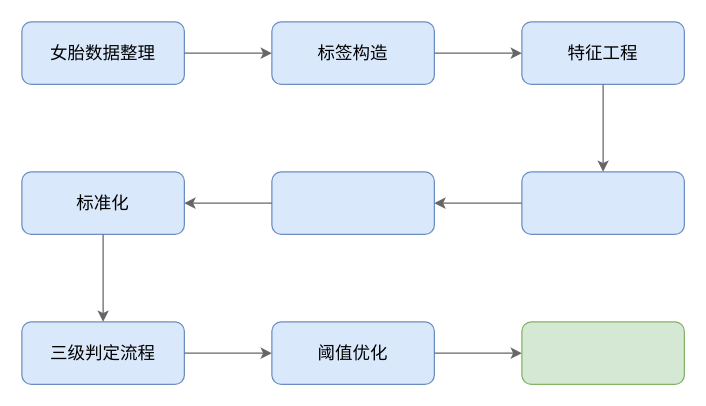
Some shapes in this 706 by 406 pixel diagram are drawn without their labels. Here are the shapes that lost their labels. From the top down, the centre of each, then its label:
At (x=352, y=202): "Z值规则基线".
At (x=602, y=202): "类加权分类器".
At (x=602, y=352): "分组交叉验证".
